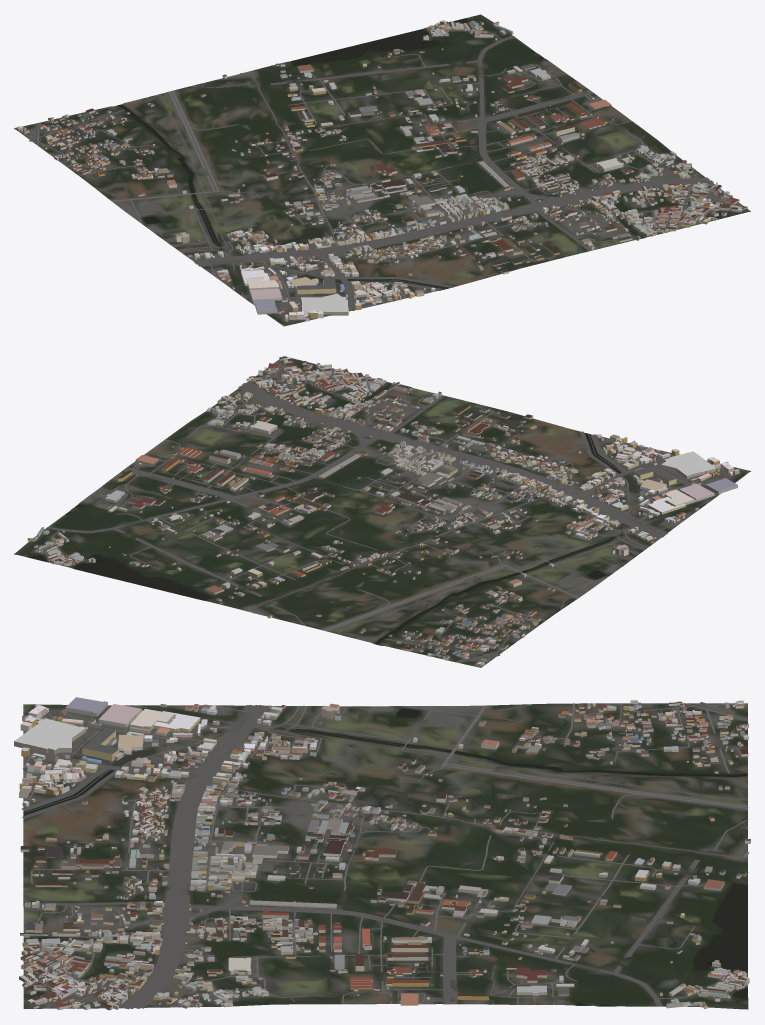
The picture shows the model from 3 angles, top to bottom: view 1: azimuth 30°, elevation 25°; view 2: azimuth 150°, elevation 25°; view 3: azimuth 270°, elevation 25°; orthographic projection. The views are drawn at different scales.
Visible parts, largest first — view 1: ground, buildings, roads, water; view 2: ground, buildings, roads, water; view 3: ground, buildings, roads, water.
Part boxes in pixels (x1,y1,x2,y2): ground: (14,14,750,326); buildings: (15,20,747,321); roads: (22,30,741,319); water: (117,18,643,289); ground: (14,356,750,667); buildings: (27,357,739,666); roads: (46,362,710,662); water: (29,382,640,644); ground: (23,703,748,1009); buildings: (14,697,750,1010); roads: (21,702,749,1009); water: (23,708,747,1005).
Size of the model in its own units: 1428 by 31.59 by 1424.
